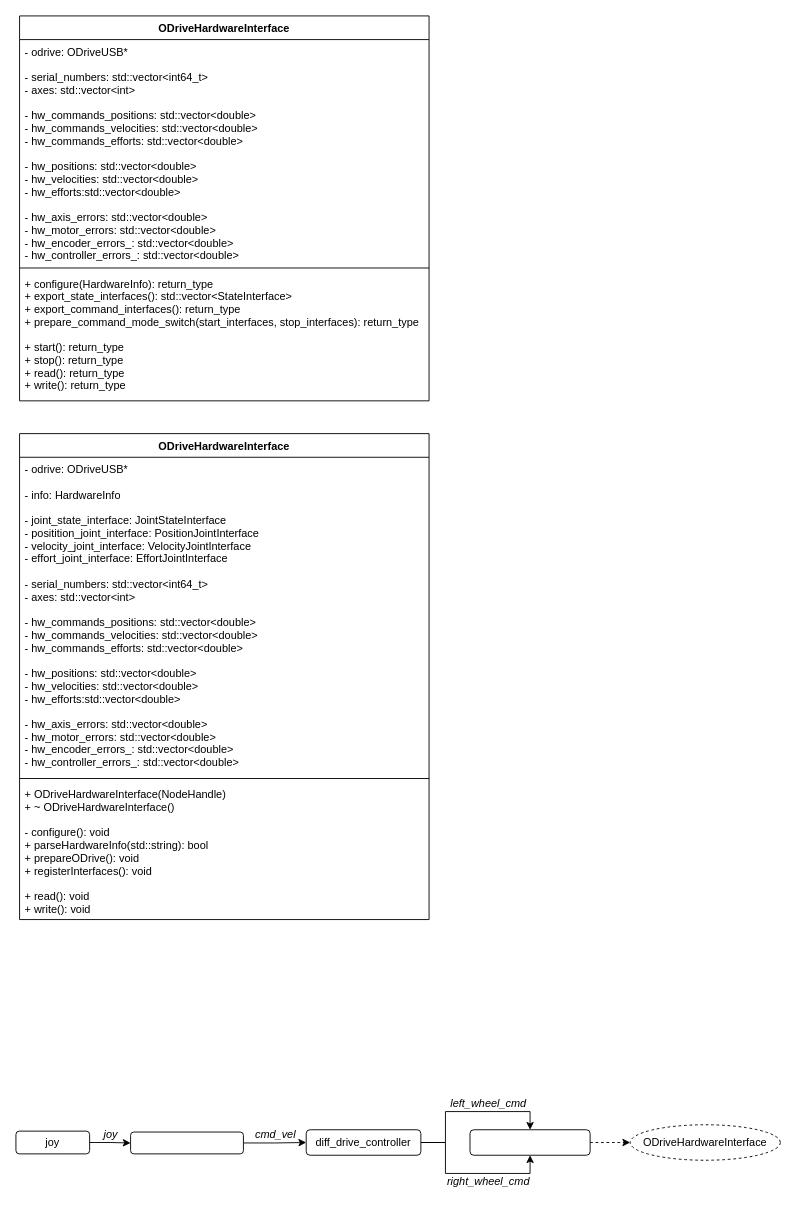
This 796x1206 diagram has some shape labels left out. Here are the shapes that lost their labels. From the top down, the box of each, then its label:
(130, 1131, 243, 1154): telex_twist_joy
(469, 1129, 590, 1155): odrive_control_node
